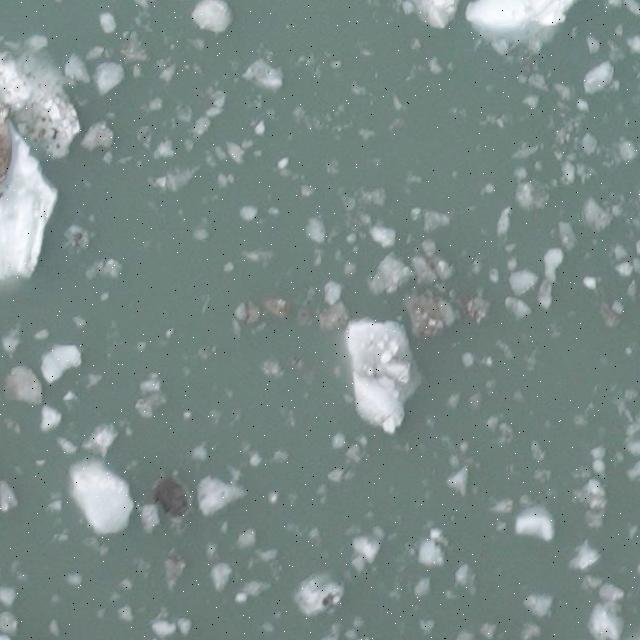seal: (1, 105, 11, 185)
